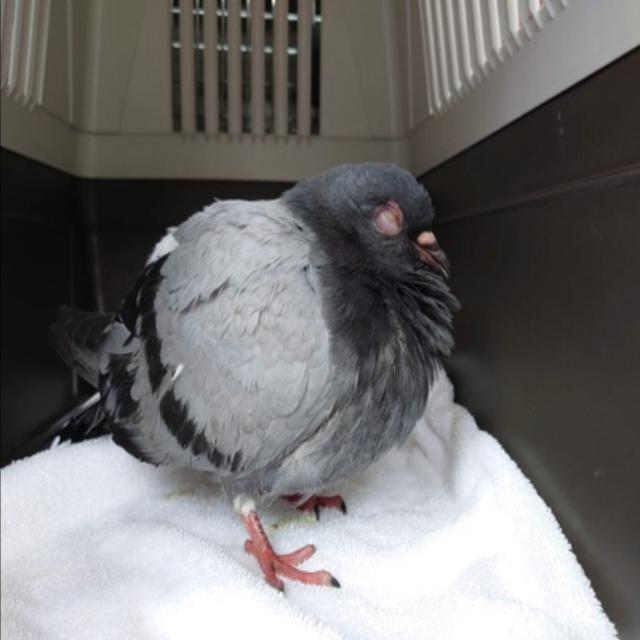Pigeon: (93, 159, 461, 594)
